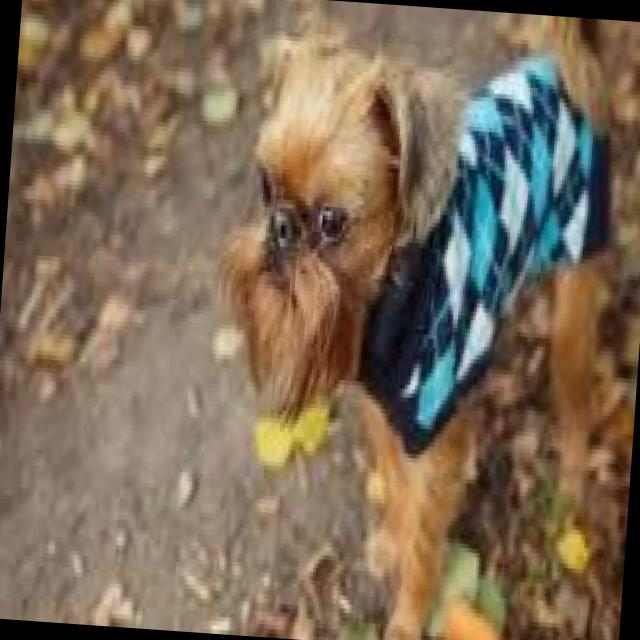Perro: (189, 0, 629, 640)
